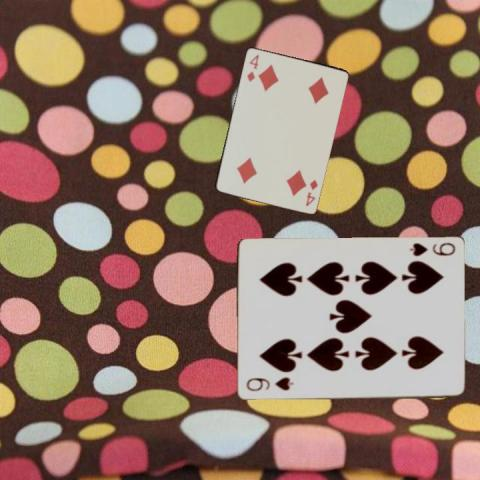4d: (244, 51, 260, 83), (302, 176, 318, 208)
9s: (243, 374, 295, 393), (406, 240, 456, 258)
